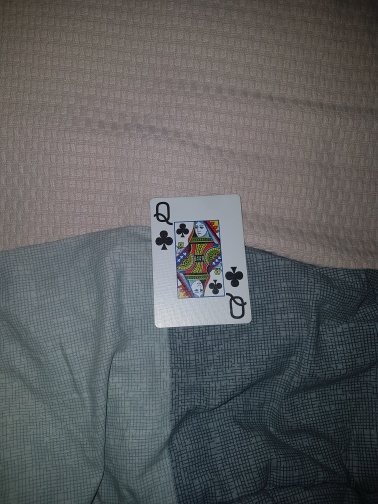queen: (154, 194, 252, 326)
